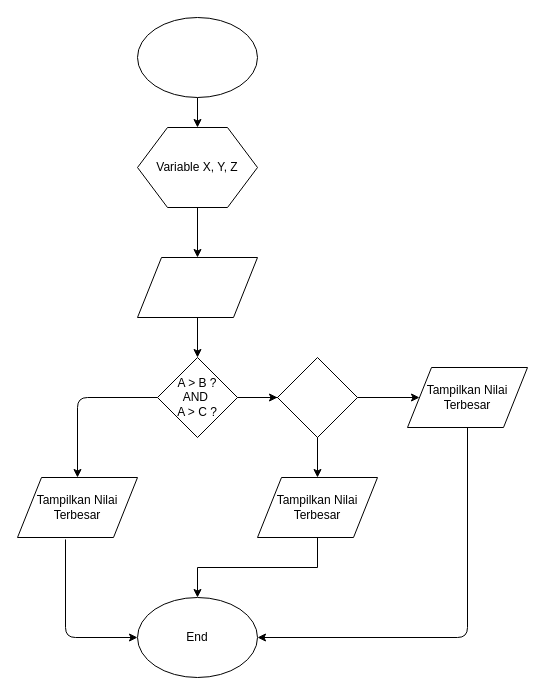
Image size: 545x695. Some labels were removed from this diagram. Each missing label, with the box of its shape:
B > C ? AND B > A ?: (276, 356, 358, 438)
Input Nilai X, Y, Z: (136, 256, 258, 318)
Start: (136, 16, 258, 98)
